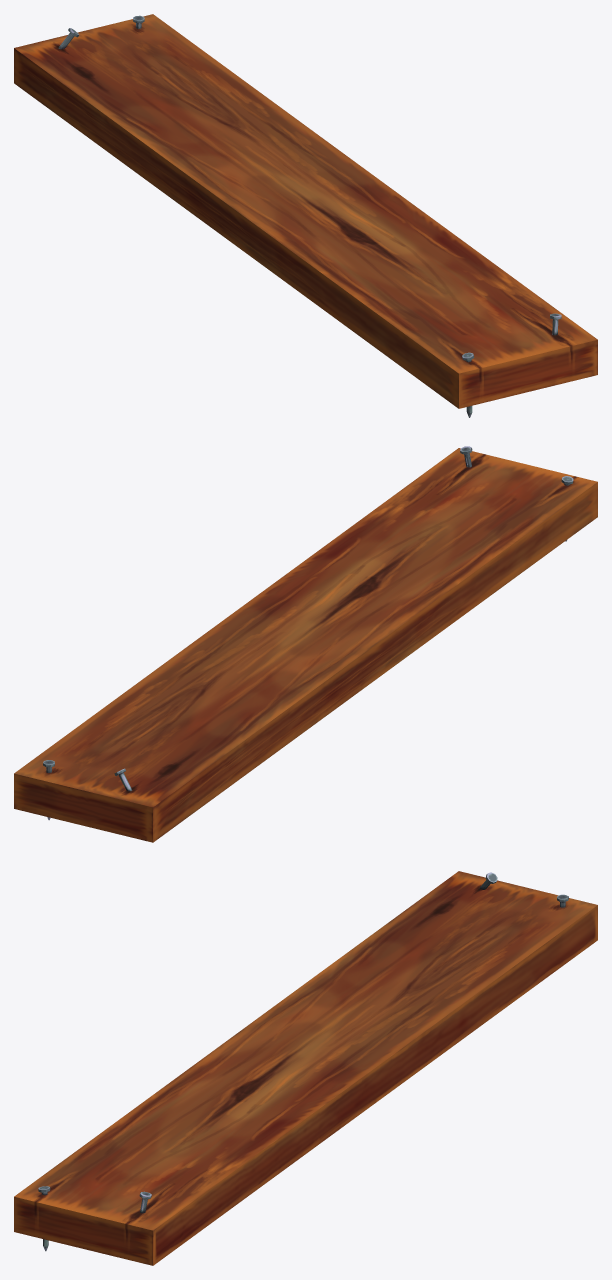
Rendered from WoodenPlank.obj.
The picture shows the model from 3 angles, top to bottom: view 1: azimuth 30°, elevation 25°; view 2: azimuth 150°, elevation 25°; view 3: azimuth 330°, elevation 25°; orthographic projection.
Visible parts, largest first — view 1: Wooden_Plank.001; view 2: Wooden_Plank.001; view 3: Wooden_Plank.001.
Boxes of the visible parts, <box> form: Wooden_Plank.001: <box>14,14,597,417</box>; Wooden_Plank.001: <box>14,446,597,842</box>; Wooden_Plank.001: <box>14,871,597,1265</box>.
Bounding box in the file's own units: 0.477 × 0.2473 × 2.64.
